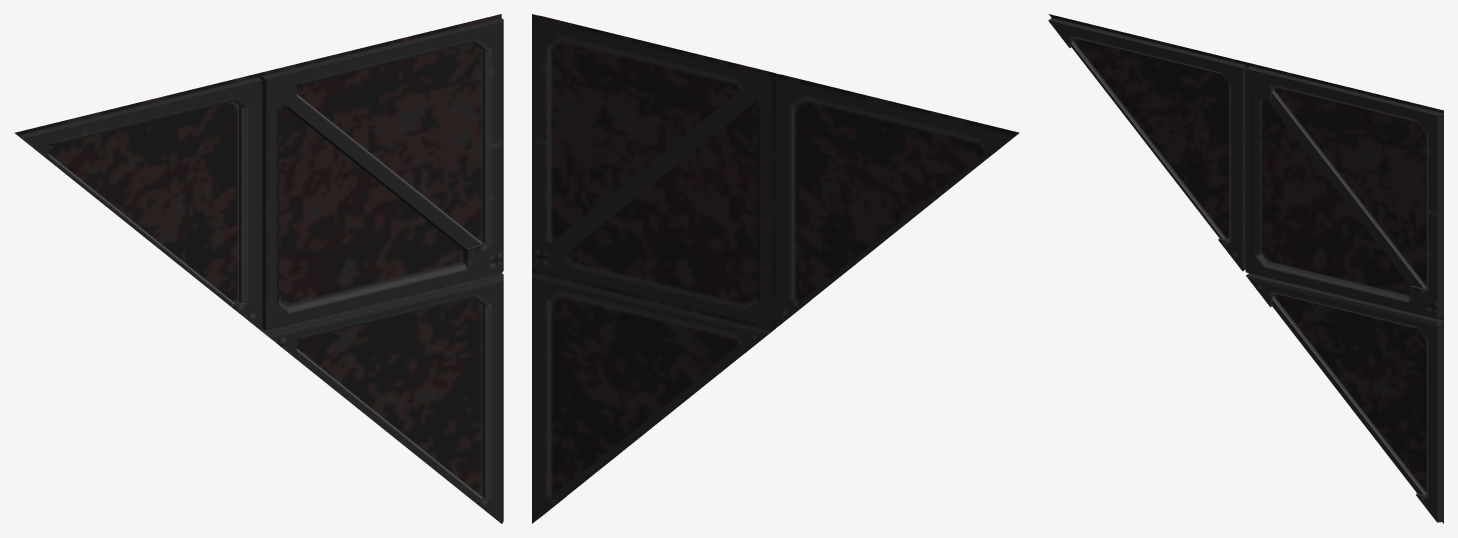
Rendered from maint3_1_slice45.fbx.
3 renders of one model, left to right at view 1: azimuth 30°, elevation 25°; view 2: azimuth 150°, elevation 25°; view 3: azimuth 330°, elevation 25°, orthographic. The views are drawn at different scales.
Visible parts, largest first — view 1: maint3_1_mesh; view 2: maint3_1_mesh; view 3: maint3_1_mesh.
Part boxes in pixels (x1,y1,x2,y2): maint3_1_mesh: [14, 14, 503, 523]; maint3_1_mesh: [532, 14, 1019, 523]; maint3_1_mesh: [1048, 14, 1443, 523].
Size of the model in its own units: 256 by 256 by 4.11.
